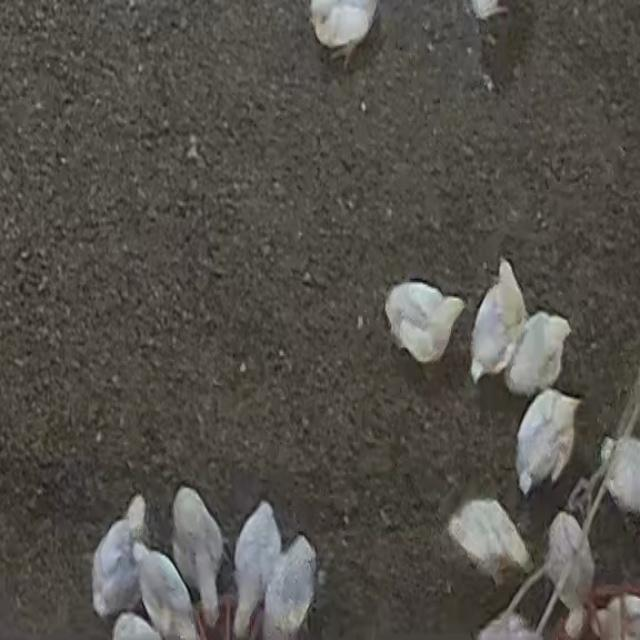chicken: (448, 497, 533, 588), (514, 389, 582, 502), (86, 497, 149, 615), (228, 502, 284, 631), (171, 489, 223, 623), (469, 266, 526, 382), (384, 279, 460, 361), (544, 514, 592, 633), (264, 536, 317, 640), (135, 545, 191, 640), (506, 314, 571, 394), (311, 0, 377, 59), (599, 435, 640, 517), (590, 594, 640, 640)
